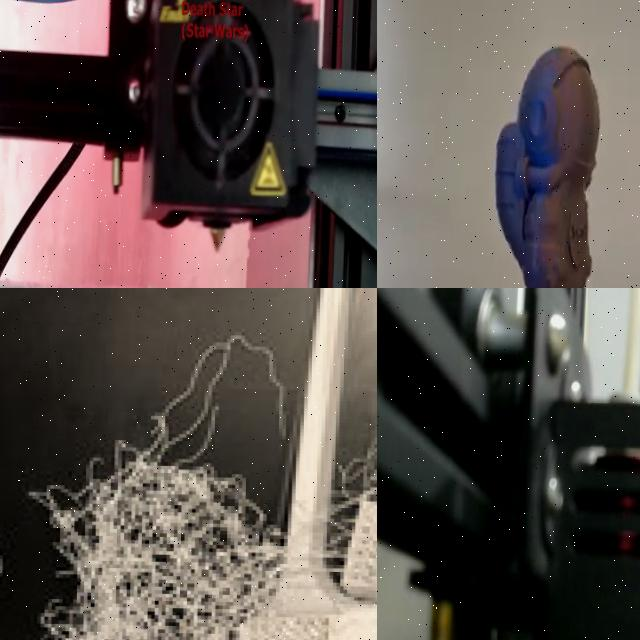spaghetti: (18, 349, 377, 640)
